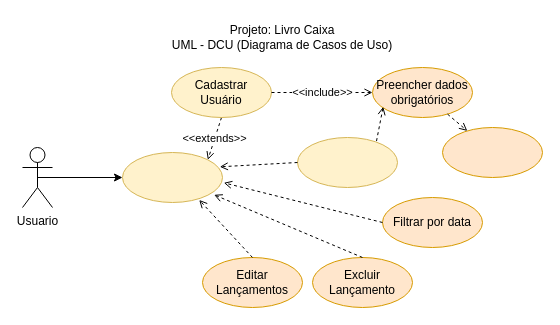
Image size: 560x325. Some labels were removed from this diagram. The shapes that lost their labels are listed below. From the top down, each one's centre as x and y in pixels, then its label:
At point 347,162: "Registrar Lançamentos".
At point 492,152: "Enviar".
At point 172,177: "Listar lançamentos por dia".
